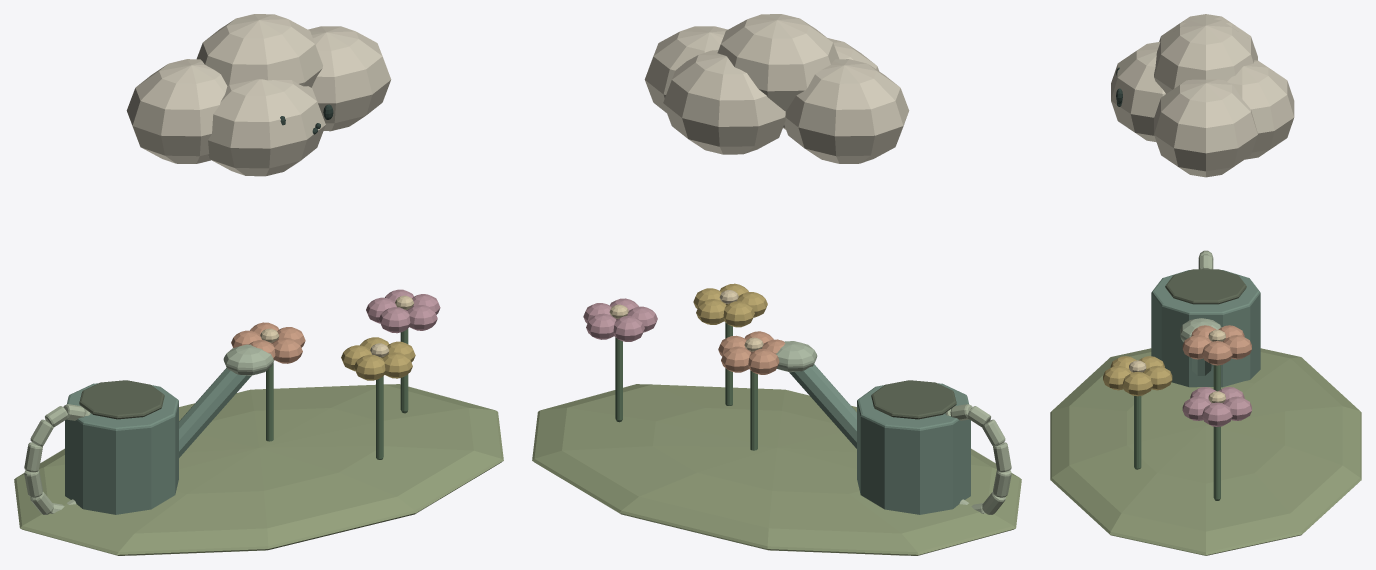
The model's file is rain-can.glb.
3 views of the same model, side by side, from view 1: azimuth 30°, elevation 25°; view 2: azimuth 150°, elevation 25°; view 3: azimuth 270°, elevation 25° (orthographic). The views are drawn at different scales.
Visible parts, largest first — view 1: rain-can_Delight_Mesh, delight_Cloud_Mesh, discovery_Motion.003_Mesh, delight_Flower1_Mesh, delight_Flower2_Mesh, delight_Flower0_Mesh; view 2: rain-can_Delight_Mesh, delight_Cloud_Mesh, discovery_Motion.003_Mesh, delight_Flower2_Mesh, delight_Flower0_Mesh, delight_Flower1_Mesh; view 3: rain-can_Delight_Mesh, delight_Cloud_Mesh, discovery_Motion.003_Mesh, delight_Flower1_Mesh, delight_Flower2_Mesh, delight_Flower0_Mesh.
Boxes of the visible parts, x1,y1,x2,y2 form: rain-can_Delight_Mesh: (14, 384, 503, 555); delight_Cloud_Mesh: (126, 14, 391, 176); discovery_Motion.003_Mesh: (24, 344, 273, 514); delight_Flower1_Mesh: (341, 337, 415, 459); delight_Flower2_Mesh: (366, 289, 440, 413); delight_Flower0_Mesh: (231, 322, 305, 441); rain-can_Delight_Mesh: (532, 384, 1021, 555); delight_Cloud_Mesh: (644, 14, 909, 163); discovery_Motion.003_Mesh: (776, 341, 1011, 514); delight_Flower2_Mesh: (583, 298, 657, 422); delight_Flower0_Mesh: (718, 331, 785, 450); delight_Flower1_Mesh: (693, 283, 767, 405); rain-can_Delight_Mesh: (1050, 348, 1361, 555); delight_Cloud_Mesh: (1111, 14, 1294, 177); discovery_Motion.003_Mesh: (1151, 250, 1260, 387); delight_Flower1_Mesh: (1103, 356, 1172, 469); delight_Flower2_Mesh: (1182, 387, 1251, 500); delight_Flower0_Mesh: (1182, 325, 1251, 391).
Size of the model in its own units: 2.27 by 2.14 by 1.37.
